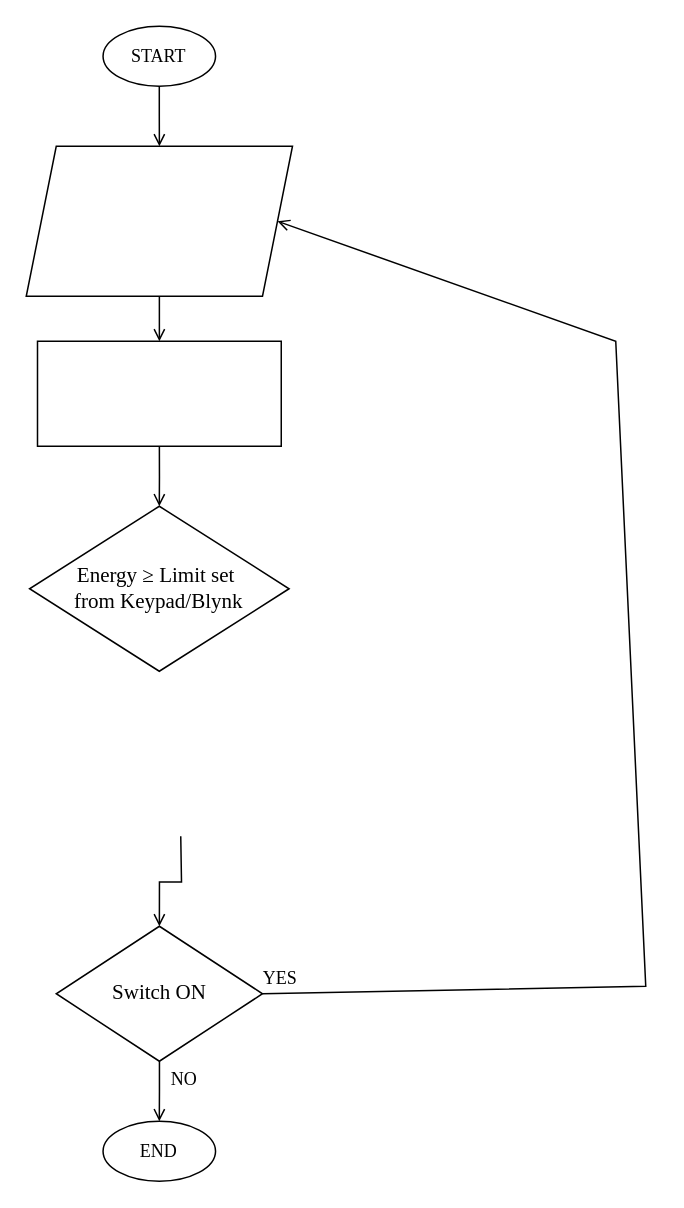
This 684x1208 diagram has some shape labels left out. The box of each missing label's shape, as (x1, y1, x2, y2) in pixels:
Process Data on ESP32; Format and Analyze Sensor Data: (36, 340, 281, 446)
Read Parameters from PZEM; Voltage, Current, Power, Energy: (25, 145, 292, 296)
